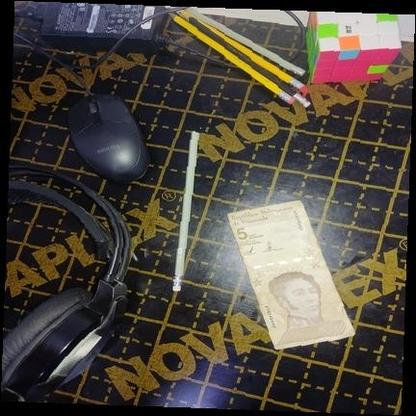five-front-vef: (228, 200, 356, 350)
